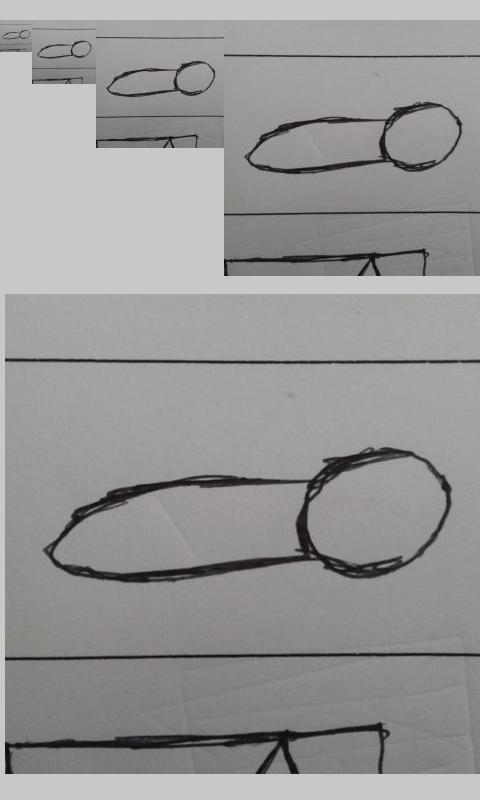switch: (41, 446, 453, 584), (244, 101, 463, 174), (105, 60, 216, 97), (37, 40, 92, 59), (2, 29, 31, 40)
